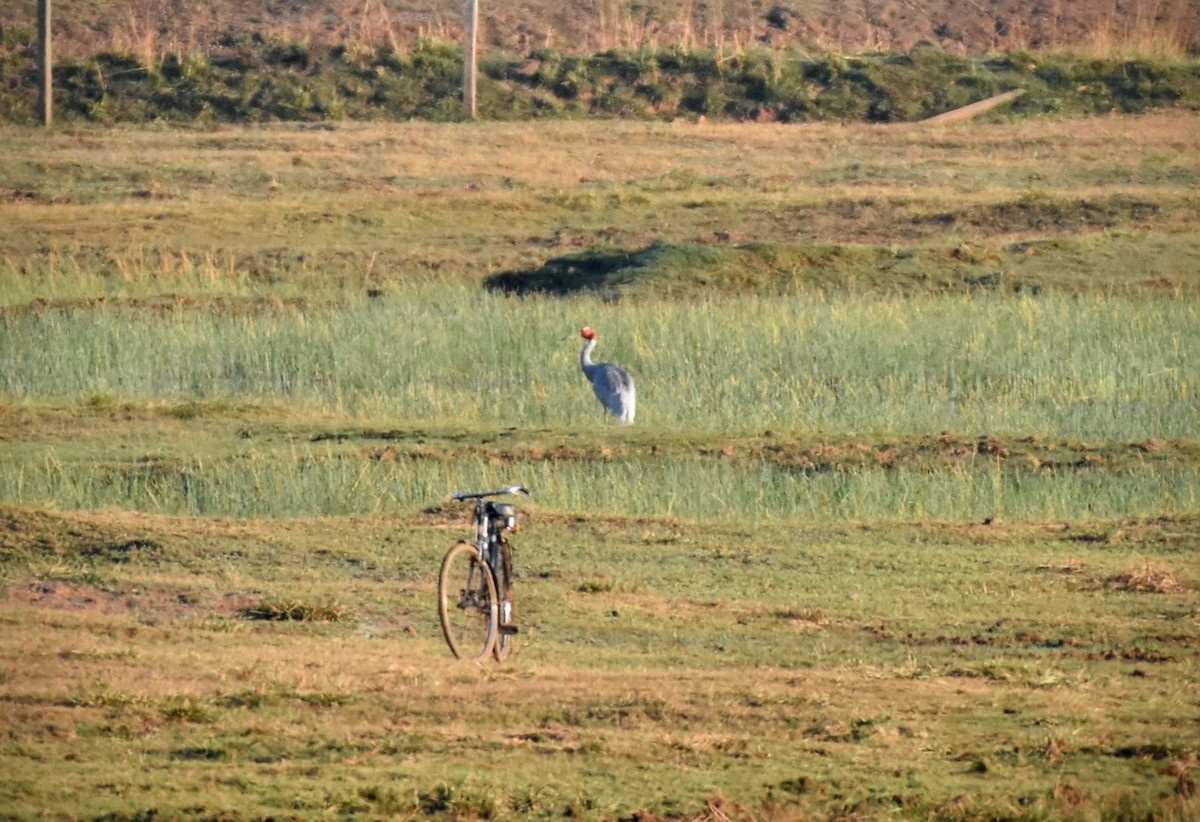crane: (573, 317, 639, 420)
